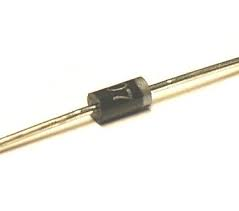diode: (61, 71, 176, 145)
